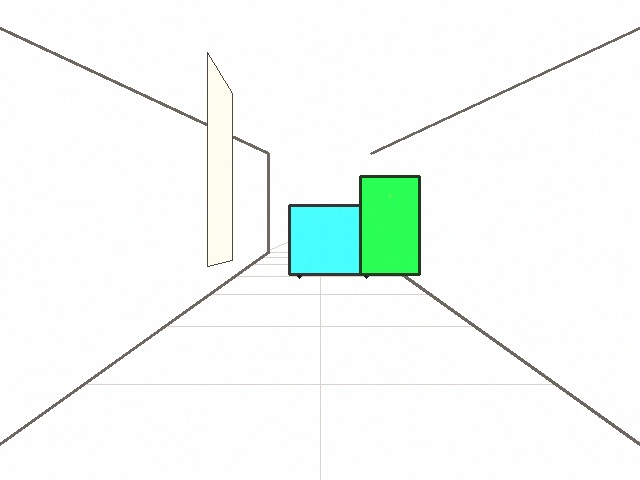cart: (289, 205, 378, 274)
charging_station: (360, 176, 419, 274)
